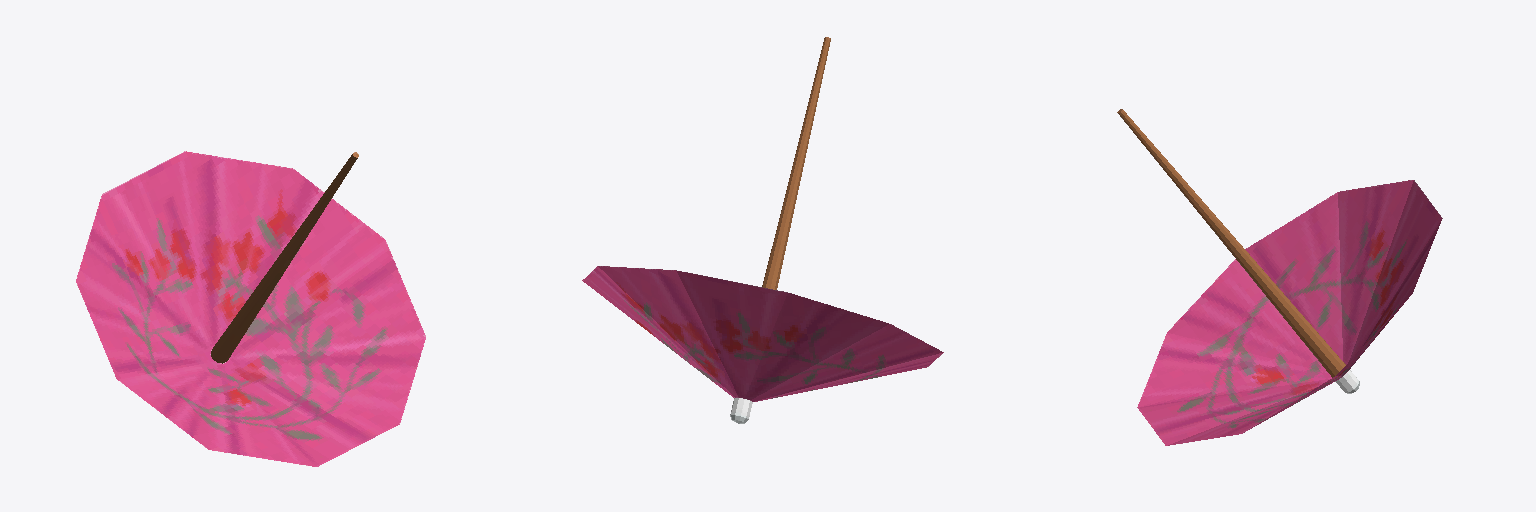
3 renders of one model, left to right at view 1: azimuth 30°, elevation 25°; view 2: azimuth 150°, elevation 25°; view 3: azimuth 270°, elevation 25°, orthographic.
Parts seen in each view (by area): view 1: dynamic; view 2: dynamic; view 3: dynamic.
Part boxes in pixels (x1,y1,x2,y2): dynamic: (76, 151, 425, 466); dynamic: (582, 37, 943, 423); dynamic: (1117, 109, 1442, 445).
Size of the model in its own units: 0.5925 by 0.562 by 0.5293.
Materials: 1 (1 with a texture image).